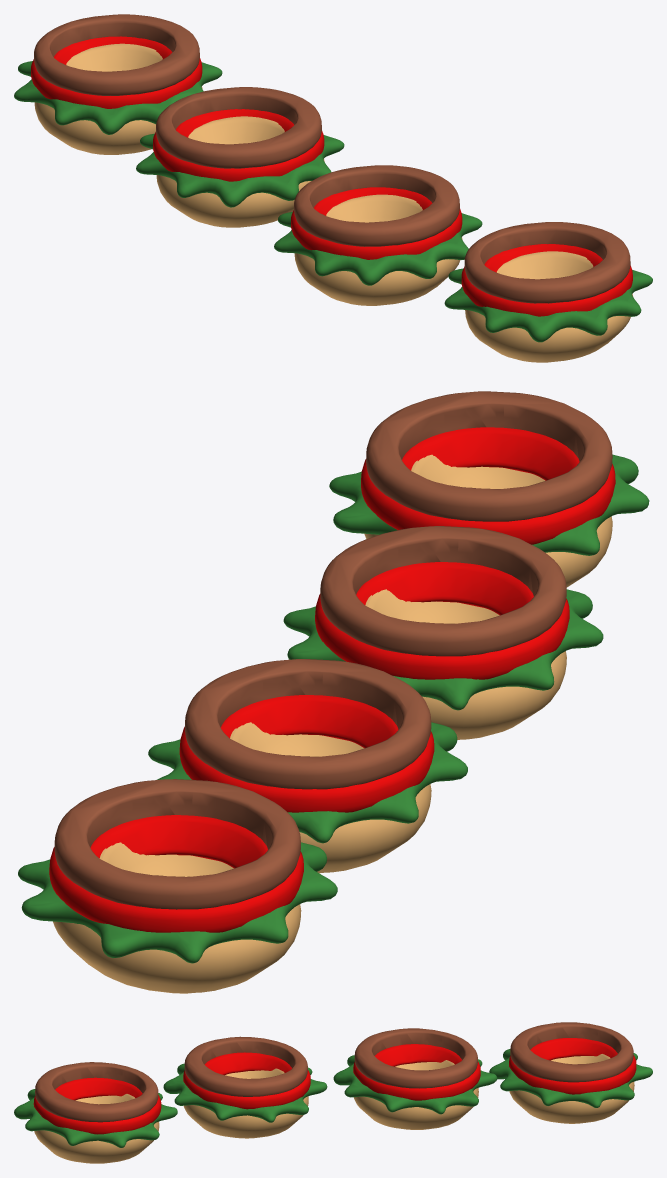
File: borgortrain1.glb
3 renders of one model, top to bottom at view 1: azimuth 30°, elevation 25°; view 2: azimuth 150°, elevation 25°; view 3: azimuth 270°, elevation 25°, orthographic. The views are drawn at different scales.
Parts seen in each view (by area): view 1: Retopo_geom.064, Retopo_geom.061, Retopo_geom.063, Retopo_geom.062; view 2: Retopo_geom.062, Retopo_geom.061, Retopo_geom.063, Retopo_geom.064; view 3: Retopo_geom.063, Retopo_geom.064, Retopo_geom.061, Retopo_geom.062.
Boxes of the visible parts, x1,y1,x2,y2 form: Retopo_geom.064: (444, 222, 652, 362); Retopo_geom.061: (274, 165, 482, 305); Retopo_geom.063: (136, 87, 344, 227); Retopo_geom.062: (14, 14, 222, 154); Retopo_geom.062: (18, 779, 337, 993); Retopo_geom.061: (283, 526, 603, 739); Retopo_geom.063: (148, 659, 467, 873); Retopo_geom.064: (329, 391, 649, 587); Retopo_geom.063: (333, 1028, 497, 1129); Retopo_geom.064: (14, 1062, 177, 1163); Retopo_geom.061: (163, 1036, 327, 1138); Retopo_geom.062: (489, 1022, 652, 1123).
Size of the model in its own units: 0.8299 by 0.2497 by 2.14.
